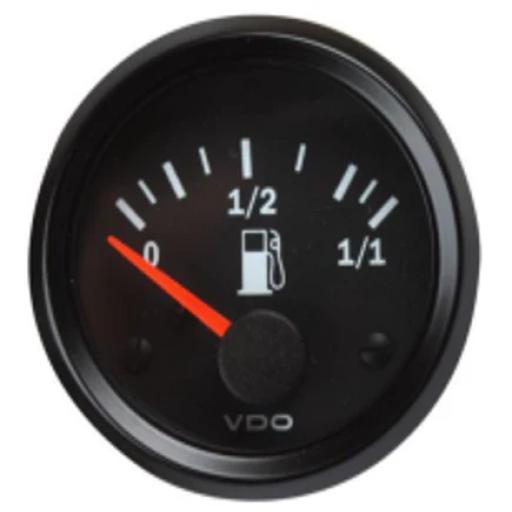empty: (144, 239, 162, 266)
fuel_icon: (234, 222, 289, 299)
full: (329, 235, 405, 277)
guage_area: (28, 16, 478, 498)
needle_center: (210, 306, 304, 413)
needle_tip: (96, 228, 131, 257)
